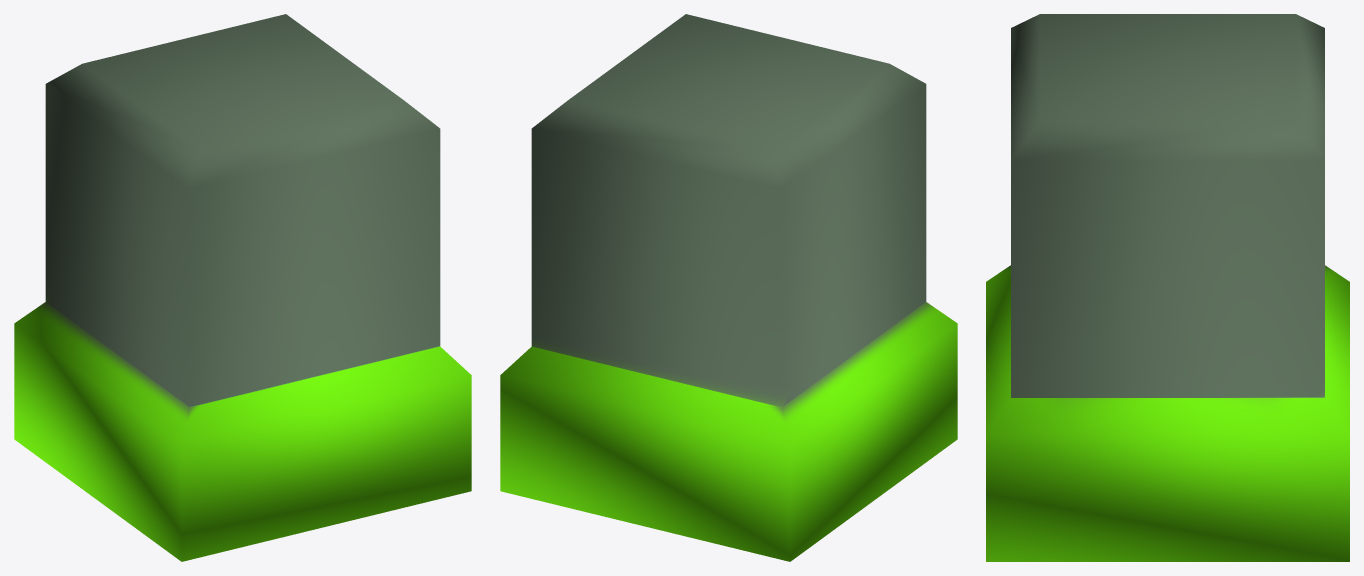
Rendered from fence.fbx.
3 renders of one model, left to right at view 1: azimuth 30°, elevation 25°; view 2: azimuth 150°, elevation 25°; view 3: azimuth 270°, elevation 25°, orthographic. The views are drawn at different scales.
Parts seen in each view (by area): view 1: Cube; view 2: Cube; view 3: Cube.
Part boxes in pixels (x1,y1,x2,y2): Cube: (14, 14, 471, 561); Cube: (500, 14, 957, 561); Cube: (986, 14, 1349, 561).
Bounding box in the file's own units: 200 × 253 × 200.
